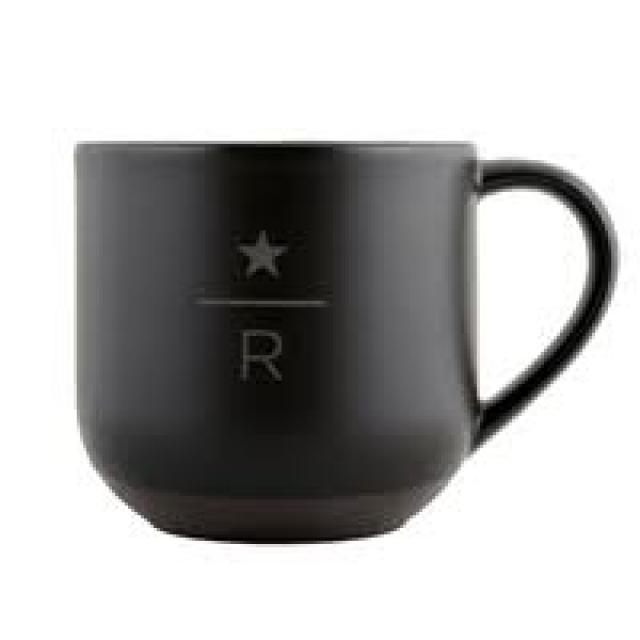taza: (71, 140, 621, 546)
